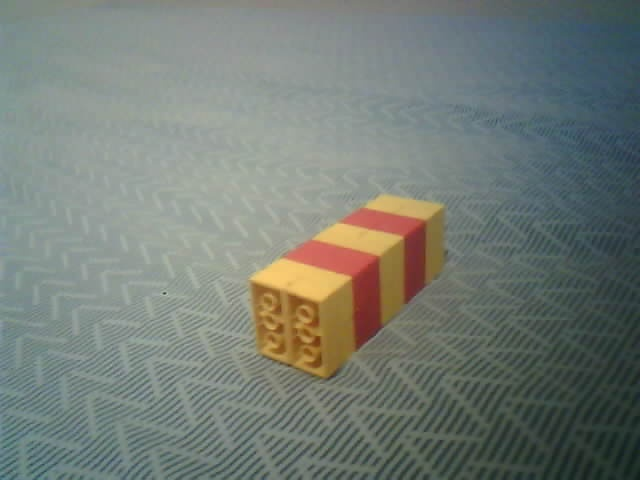lego: (247, 193, 446, 381)
